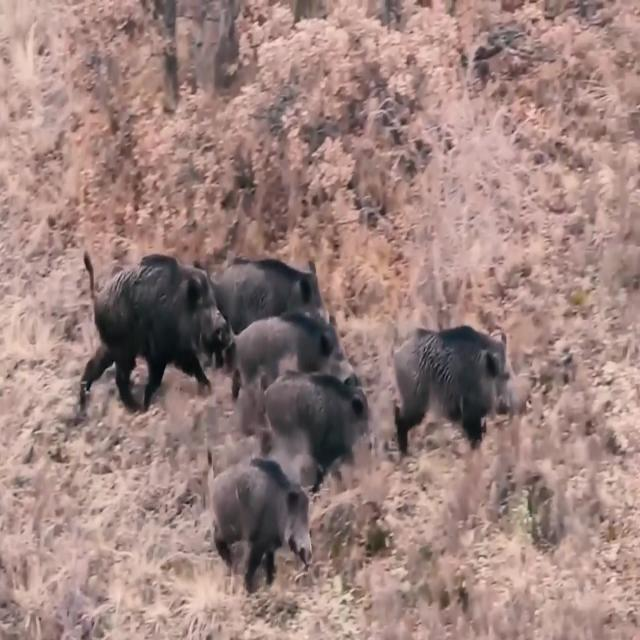pig: (74, 230, 230, 411), (199, 455, 327, 598), (256, 350, 383, 491), (230, 301, 350, 427), (220, 240, 335, 331)
